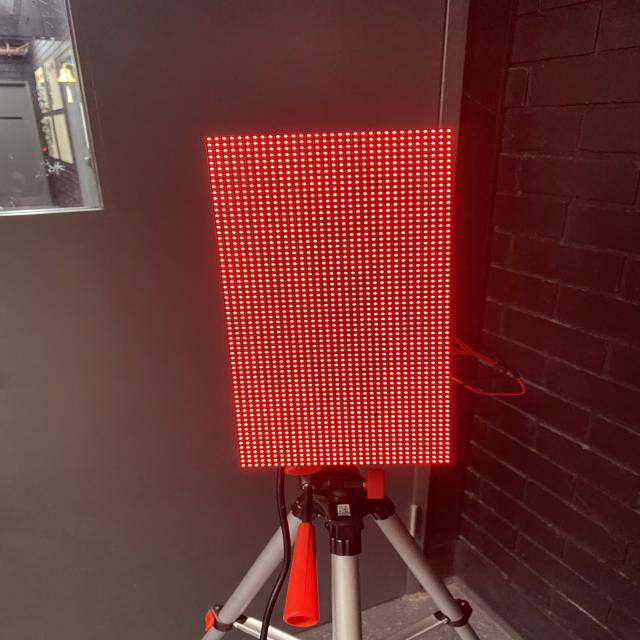matrix: (196, 124, 473, 473)
